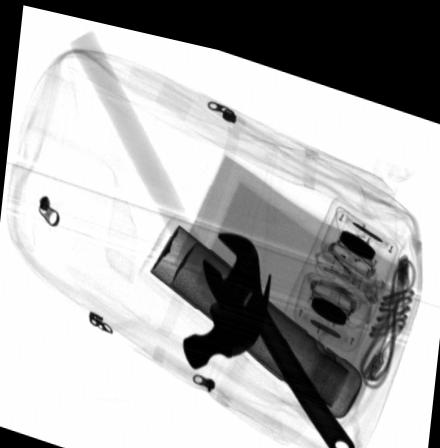Hammer: (67, 23, 271, 357)
Wrench: (201, 219, 355, 442)
